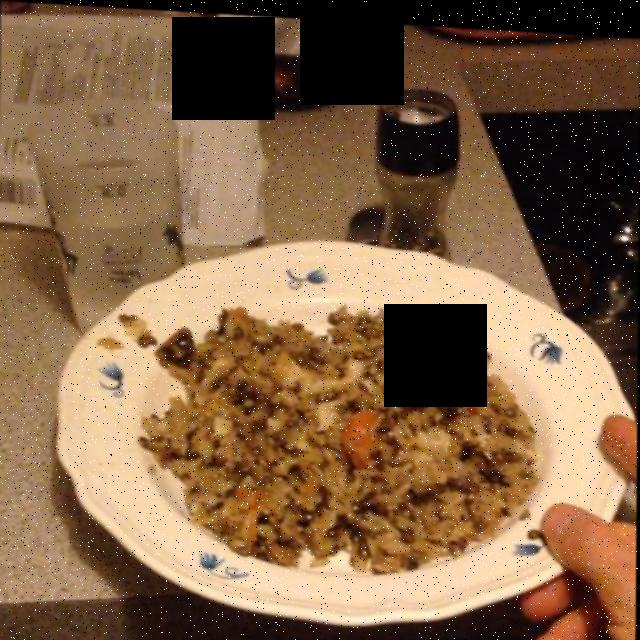carrot-raw: (232, 390, 386, 511)
lentils: (150, 305, 529, 565)
rice-whole-grain: (146, 305, 529, 581)
